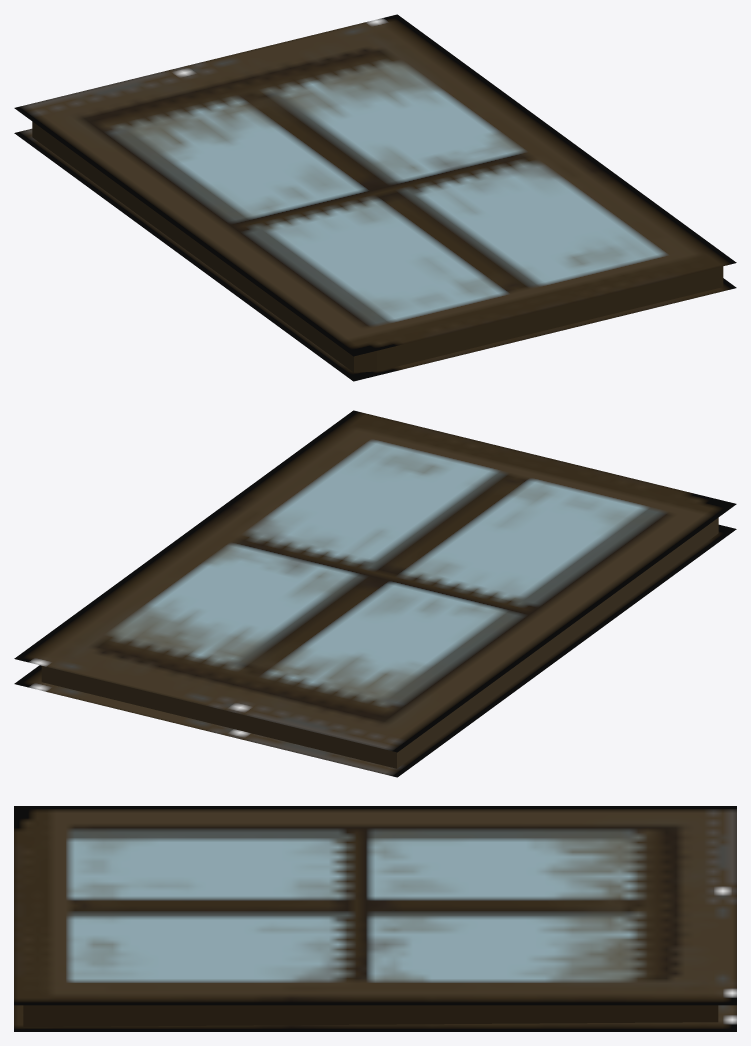
The model's file is pz_native_fixtures_windows_01_1_frame.obj.
The picture shows the model from 3 angles, top to bottom: view 1: azimuth 30°, elevation 25°; view 2: azimuth 150°, elevation 25°; view 3: azimuth 270°, elevation 25°; orthographic projection. The views are drawn at different scales.
Parts seen in each view (by area): view 1: pz_native_fixtures_windows_01_1_frame; view 2: pz_native_fixtures_windows_01_1_frame; view 3: pz_native_fixtures_windows_01_1_frame.
Part boxes in pixels (x1,y1,x2,y2): pz_native_fixtures_windows_01_1_frame: [14, 14, 736, 381]; pz_native_fixtures_windows_01_1_frame: [14, 410, 736, 777]; pz_native_fixtures_windows_01_1_frame: [14, 806, 736, 1031].
Bounding box in the file's own units: 0.6406 × 0.04 × 0.9823.
1 material, 1 textured.
